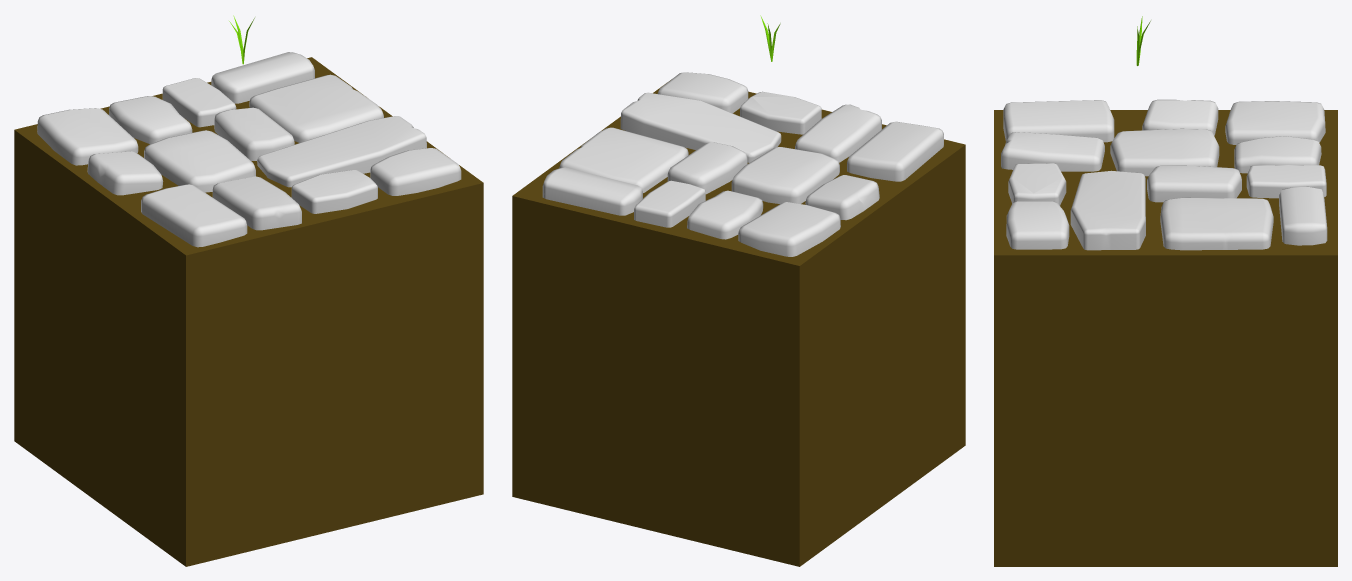
The model's file is square_pack_steppe_1.fbx.
3 renders of one model, left to right at view 1: azimuth 30°, elevation 25°; view 2: azimuth 150°, elevation 25°; view 3: azimuth 270°, elevation 25°, orthographic. The views are drawn at different scales.
Parts seen in each view (by area): view 1: pCube15, pCube159, pCube153, pCube161, pCube155, pCube156, pCube162, pCube154, pCube157, pCube160, pCube163, pCube164 (+2 smaller); view 2: pCube15, pCube159, pCube153, pCube161, pCube155, pCube156, pCube157, pCube162, pCube163, pCube164, pCube160, pCube158 (+2 smaller); view 3: pCube15, pCube153, pCube159, pCube161, pCube155, pCube156, pCube162, pCube163, pCube154, pCube157, pCube164, pCube158 (+2 smaller).
Boxes of the visible parts, x1=… form: pCube15: x1=14, y1=57, x2=483, y2=566; pCube159: x1=257, y1=116, x2=426, y2=187; pCube153: x1=249, y1=74, x2=383, y2=142; pCube161: x1=144, y1=130, x2=255, y2=192; pCube155: x1=141, y1=184, x2=247, y2=247; pCube156: x1=37, y1=108, x2=138, y2=165; pCube162: x1=212, y1=176, x2=301, y2=230; pCube154: x1=370, y1=148, x2=461, y2=195; pCube157: x1=211, y1=52, x2=314, y2=103; pCube160: x1=291, y1=170, x2=377, y2=213; pCube163: x1=214, y1=107, x2=294, y2=160; pCube164: x1=109, y1=96, x2=192, y2=144; pCube15: x1=512, y1=80, x2=965, y2=566; pCube159: x1=620, y1=92, x2=781, y2=162; pCube153: x1=559, y1=127, x2=688, y2=192; pCube161: x1=731, y1=147, x2=839, y2=203; pCube155: x1=847, y1=121, x2=943, y2=181; pCube156: x1=738, y1=202, x2=840, y2=256; pCube157: x1=542, y1=167, x2=642, y2=215; pCube162: x1=795, y1=104, x2=881, y2=162; pCube163: x1=667, y1=142, x2=747, y2=194; pCube164: x1=687, y1=190, x2=763, y2=239; pCube160: x1=740, y1=91, x2=821, y2=134; pCube158: x1=634, y1=180, x2=705, y2=227; pCube15: x1=994, y1=110, x2=1337, y2=566; pCube153: x1=1160, y1=197, x2=1273, y2=250; pCube159: x1=1070, y1=170, x2=1145, y2=250; pCube161: x1=1110, y1=128, x2=1219, y2=176; pCube155: x1=1003, y1=100, x2=1114, y2=142; pCube156: x1=1225, y1=101, x2=1325, y2=144; pCube162: x1=1001, y1=132, x2=1104, y2=171; pCube163: x1=1147, y1=165, x2=1241, y2=202; pCube154: x1=1006, y1=201, x2=1069, y2=249; pCube157: x1=1279, y1=186, x2=1327, y2=245; pCube164: x1=1234, y1=136, x2=1321, y2=173; pCube158: x1=1246, y1=165, x2=1326, y2=198.
Size of the model in its own units: 100 by 149 by 100.
